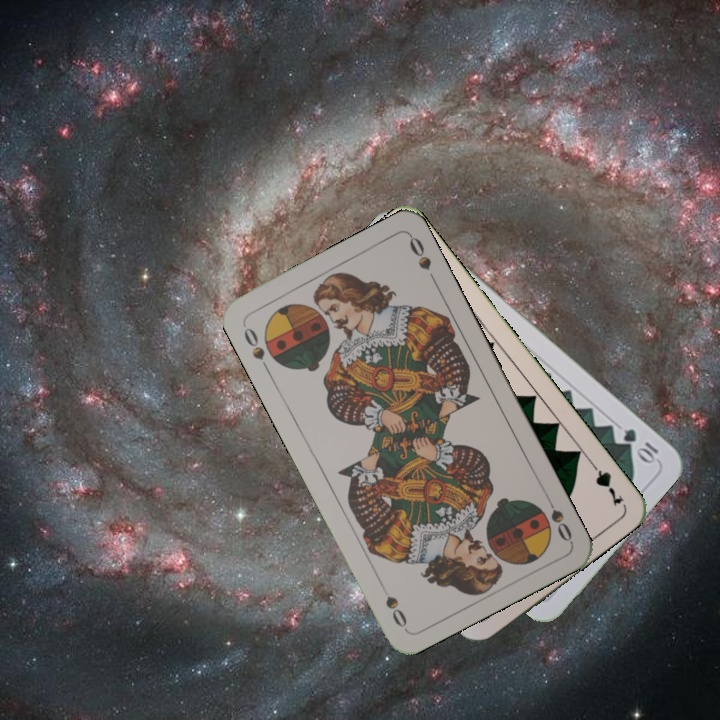G10: (619, 424, 662, 466)
G7: (584, 456, 626, 509)
SO: (541, 489, 575, 544), (238, 320, 272, 375)
